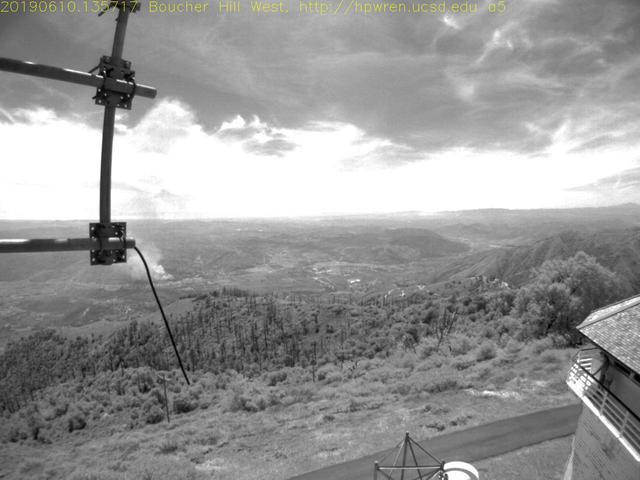smoke: (126, 191, 178, 287)
